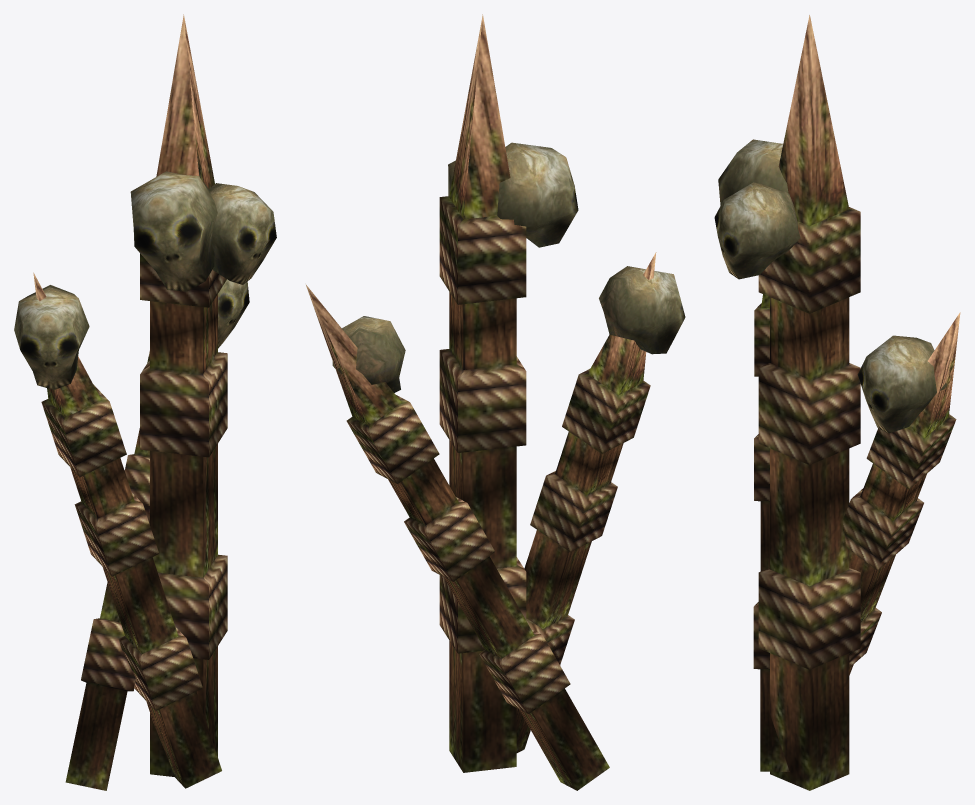
File: WoodPiles01.FBX
3 views of the same model, side by side, from view 1: azimuth 30°, elevation 25°; view 2: azimuth 150°, elevation 25°; view 3: azimuth 270°, elevation 25° (orthographic). The views are drawn at different scales.
Parts seen in each view (by area): view 1: WoodPiles01; view 2: WoodPiles01; view 3: WoodPiles01.
Part boxes in pixels (x1,y1,x2,y2): WoodPiles01: [14, 14, 276, 790]; WoodPiles01: [306, 14, 685, 790]; WoodPiles01: [714, 15, 960, 790].
Size of the model in its own units: 181 by 455 by 132.
